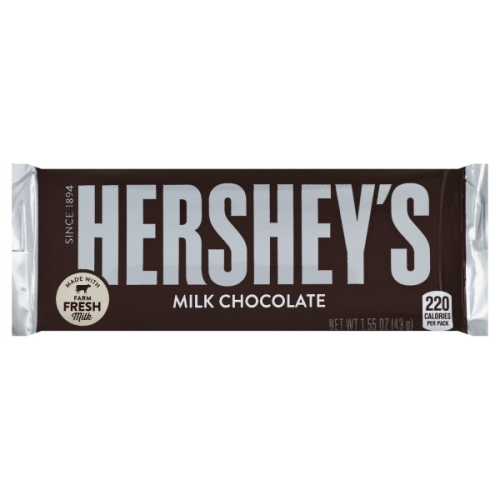hershey: (10, 163, 490, 339)
